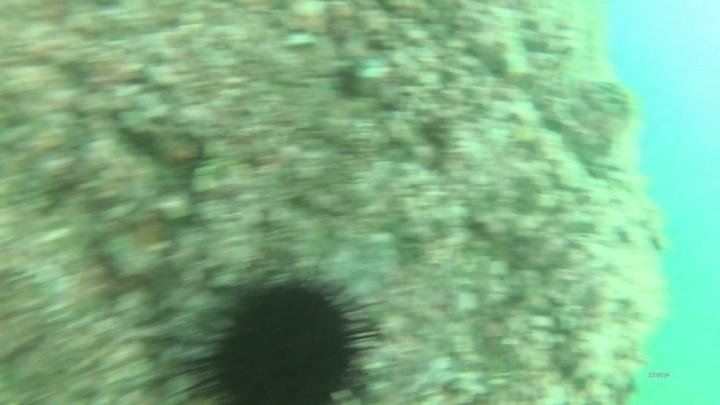echinus: (183, 270, 386, 405)
